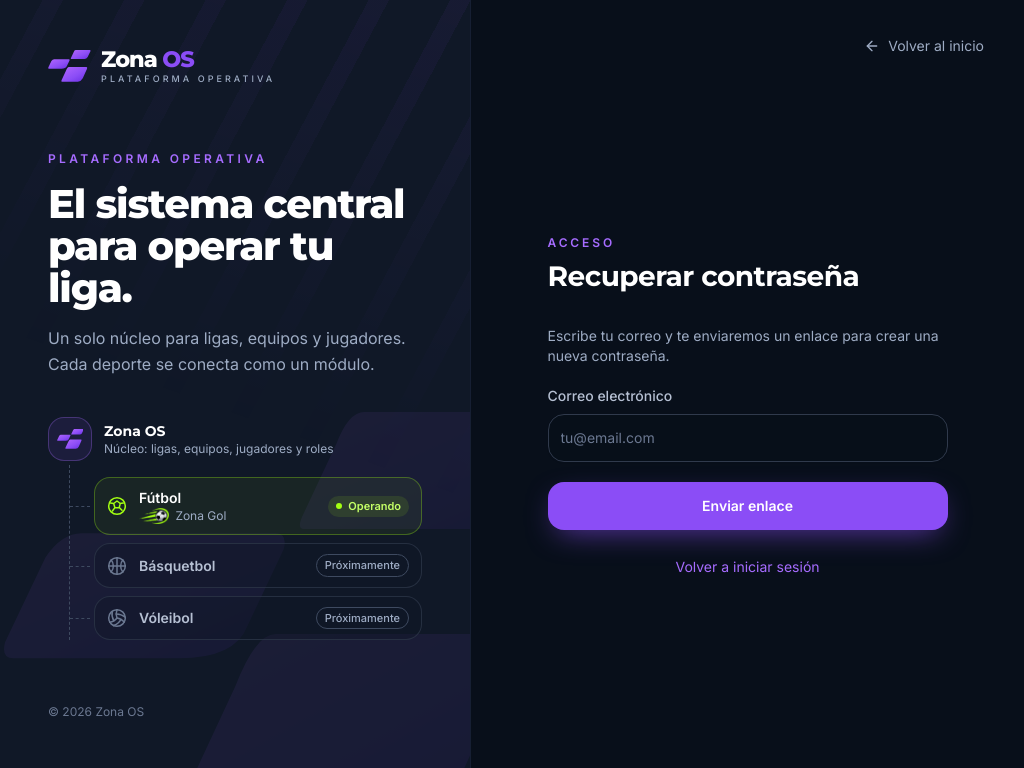
Test: ForgotPasswordPage › sends the email and shows the neutral message
Type "nadie@ejemplo.mx" into the field labelled "Correo electrónico" at (748, 438), box x1=548 y1=414 x2=948 y2=462
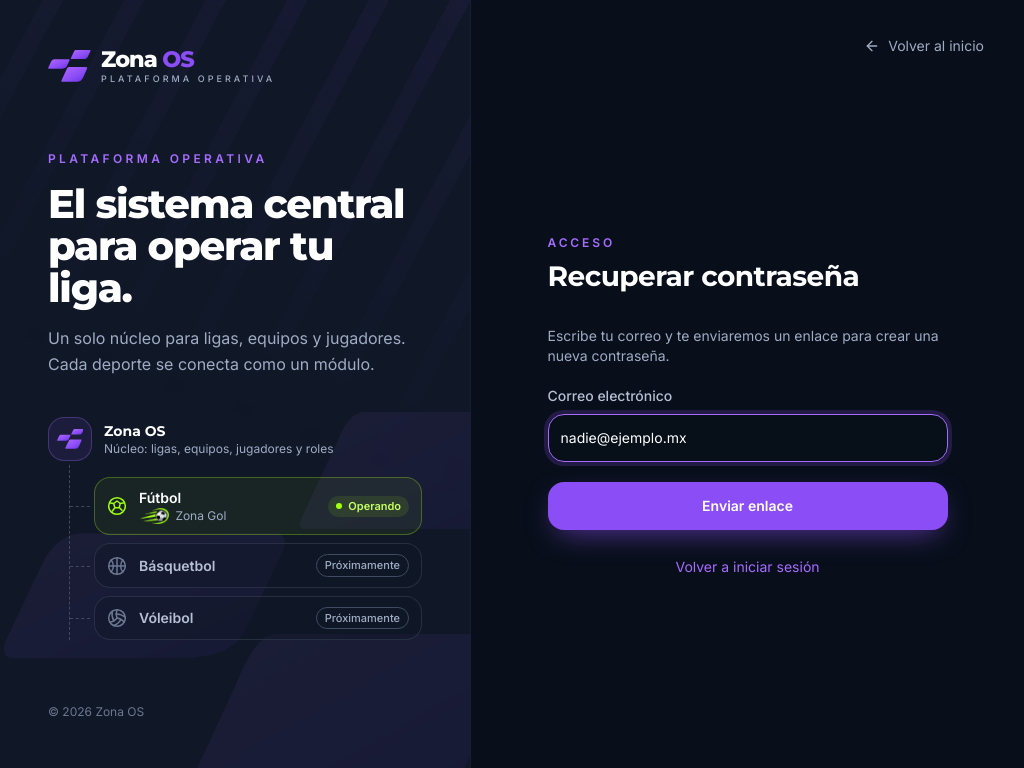
Click the button "Enviar enlace" at (748, 506), box x1=548 y1=482 x2=948 y2=530
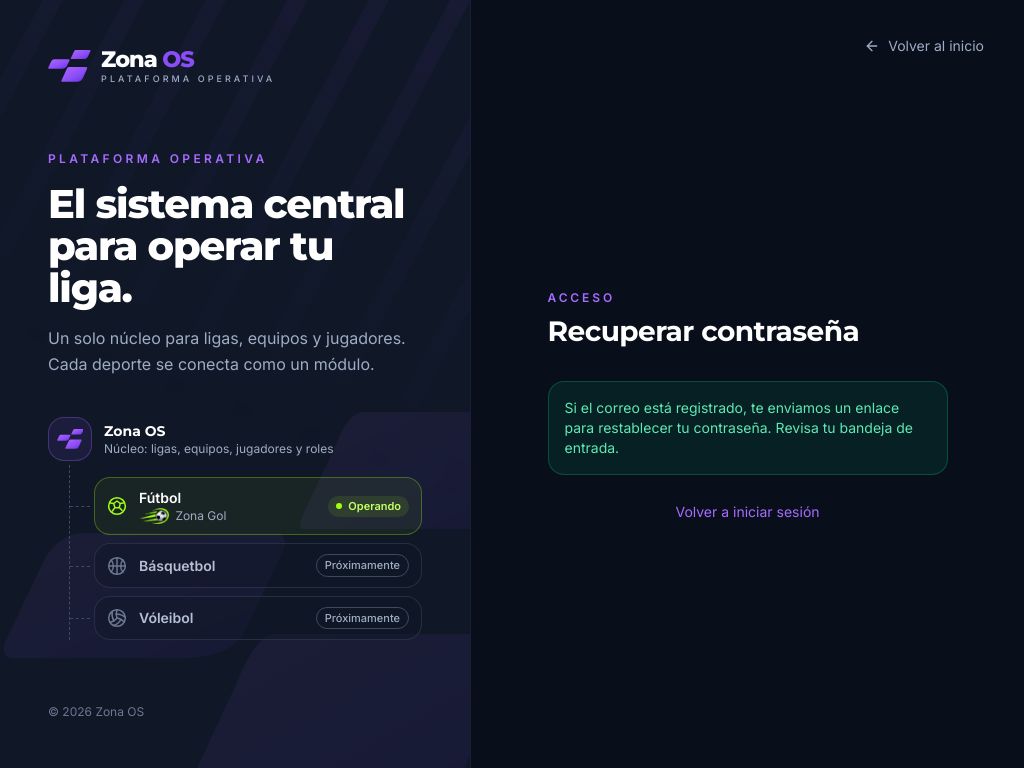
Result: the message shows "Si el correo está registrado, te enviamos un enlace" at x1=564 y1=398 x2=913 y2=456
